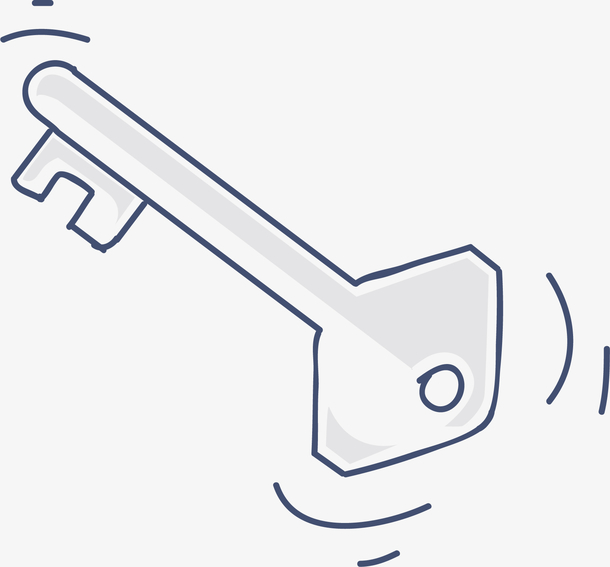key: (11, 56, 524, 498)
